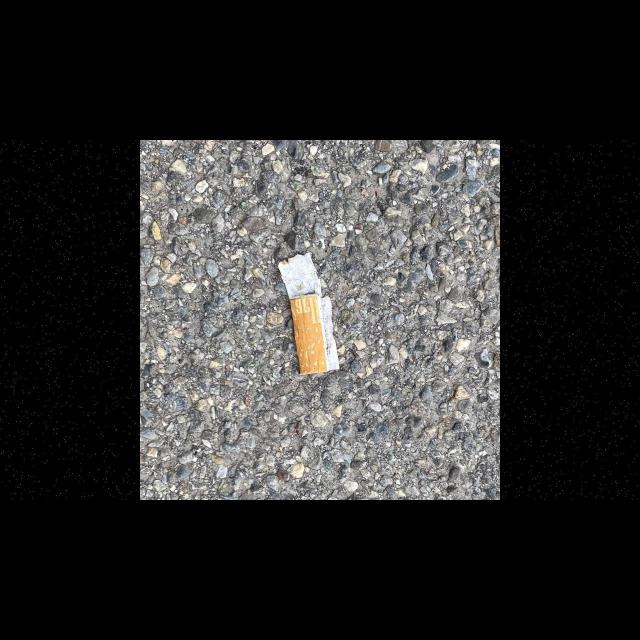cigarette: (276, 251, 341, 375)
